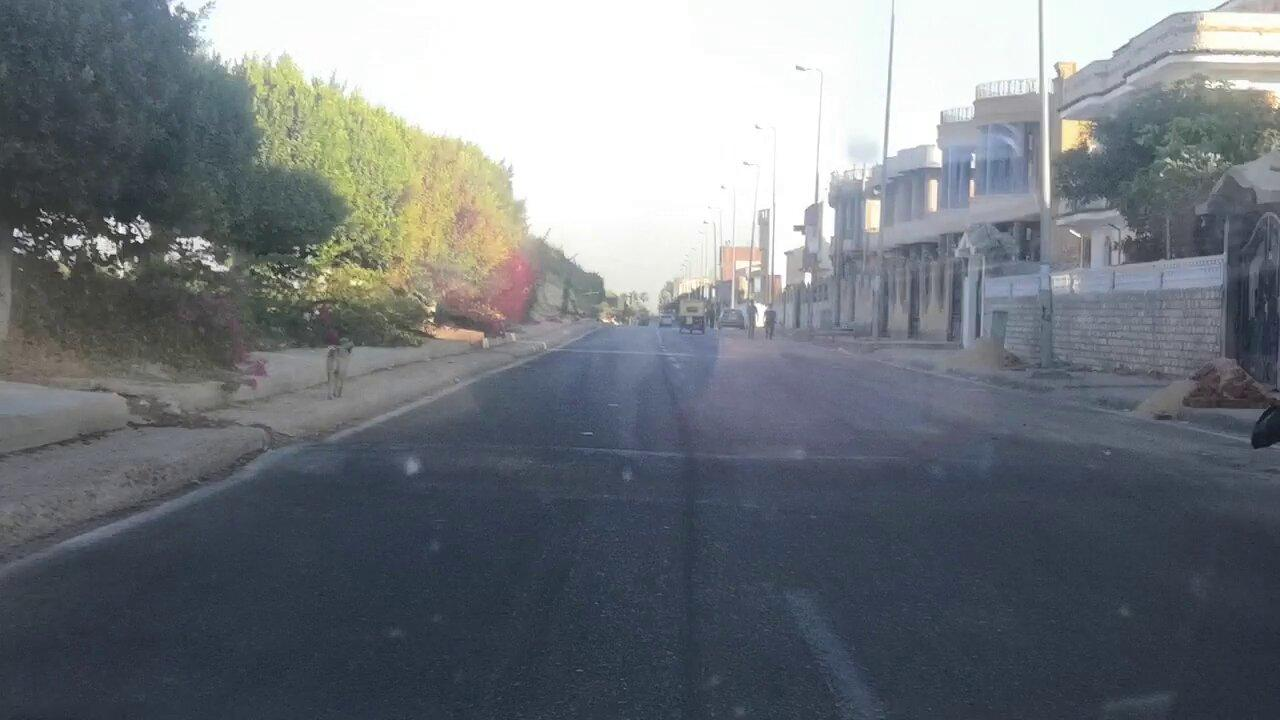Bump: (308, 431, 1280, 473)
